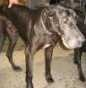dog: (2, 0, 84, 64)
